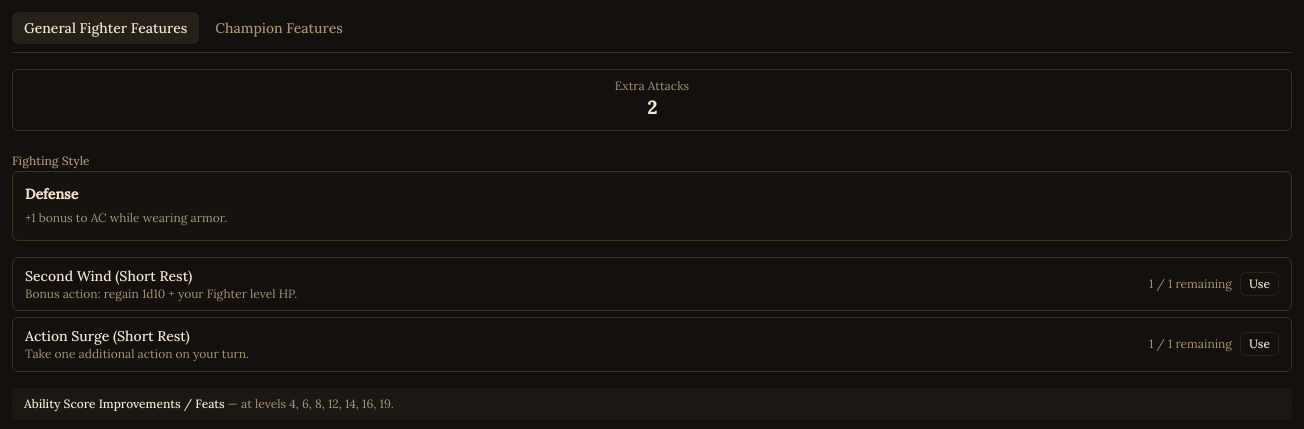
ClassSheet — Features tab sub-tabs › defaults to General; subclass content appears only after clicking the subclass tab
Expected: the text "Extra Attacks" is shown, 615,78 -> 689,93
Click the button with test id "features-subtab-subclass": (279, 28) 203,12 -> 355,44
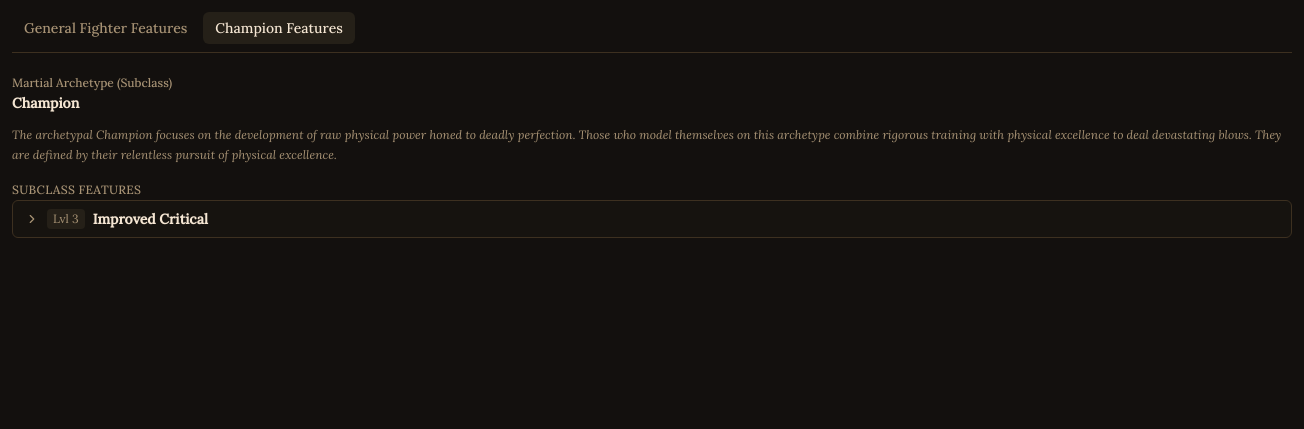
Result: the text "Champion" is shown at 12,94 -> 79,112
Result: the text "Extra Attacks" is gone
